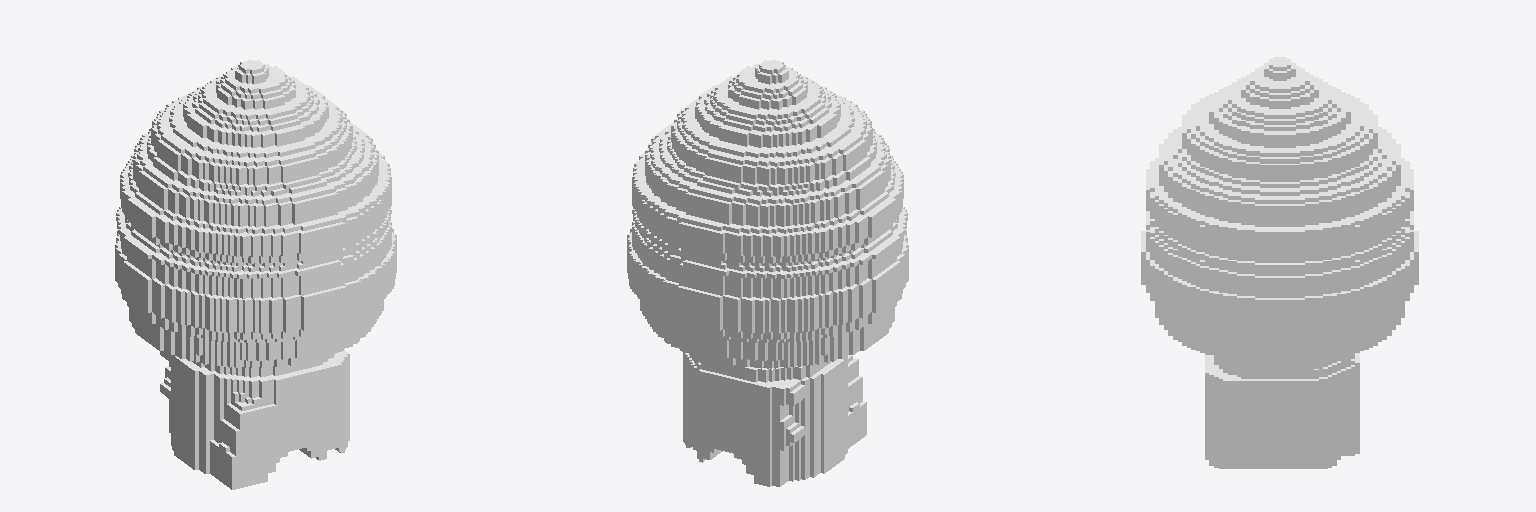
Rendered from treeobj.obj.
The picture shows the model from 3 angles: view 1: azimuth 30°, elevation 25°; view 2: azimuth 150°, elevation 25°; view 3: azimuth 270°, elevation 25°; orthographic projection.
Parts seen in each view (by area): view 1: object 1; view 2: object 1; view 3: object 1.
Boxes of the visible parts, x1=… form: object 1: x1=115, y1=60, x2=396, y2=489; object 1: x1=627, y1=60, x2=908, y2=486; object 1: x1=1141, y1=57, x2=1418, y2=468.
Size of the model in its own units: 6.1 by 9.3 by 6.1.